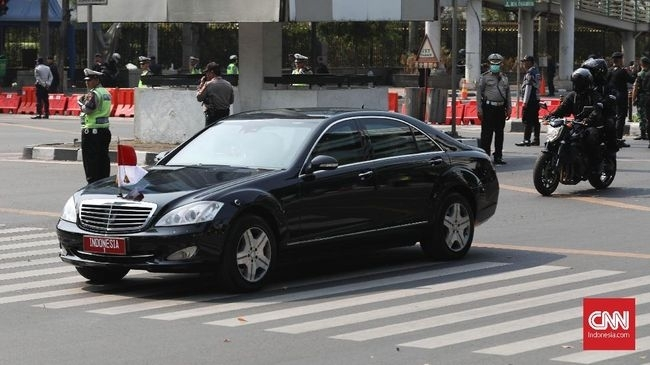plate: (83, 236, 124, 255)
